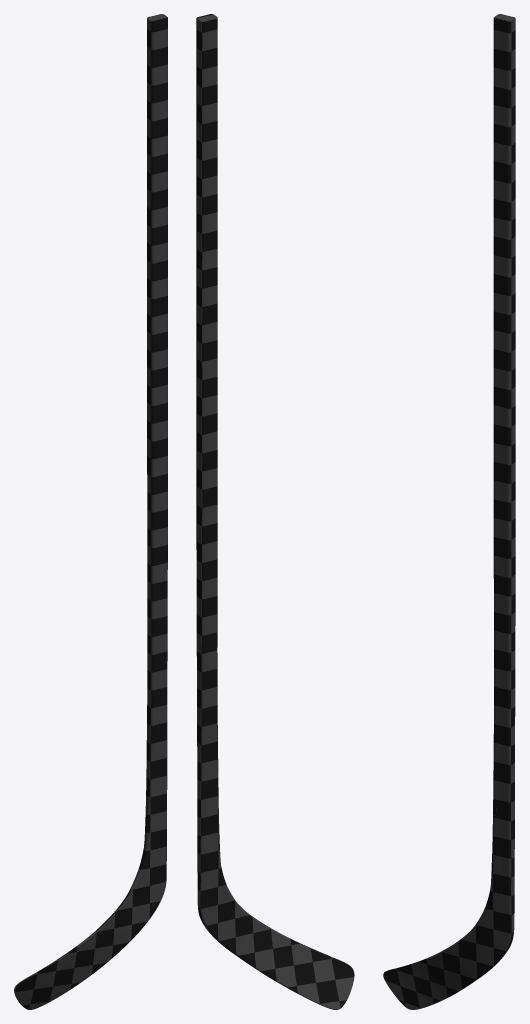
Rendered from P02-SBT.glb.
The picture shows the model from 3 angles, left to right: view 1: azimuth 30°, elevation 25°; view 2: azimuth 210°, elevation 25°; view 3: azimuth 330°, elevation 25°; orthographic projection. The views are drawn at different scales.
Visible parts, largest first — view 1: geometry_0; view 2: geometry_0; view 3: geometry_0.
Part boxes in pixels (<box>): geometry_0: <box>14,14,167,1009</box>; geometry_0: <box>196,14,354,1009</box>; geometry_0: <box>383,14,515,1009</box>.
Size of the model in its own units: 243 by 1650 by 67.58.
1 material, 1 textured.
